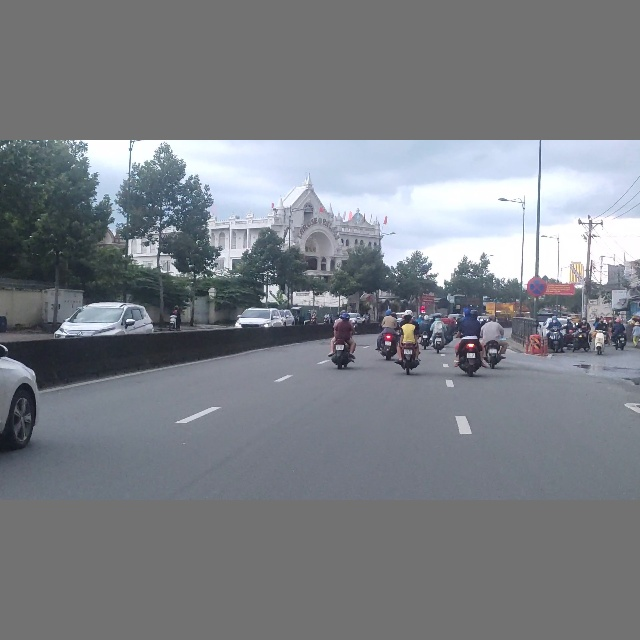P.130: (527, 277, 546, 296)
